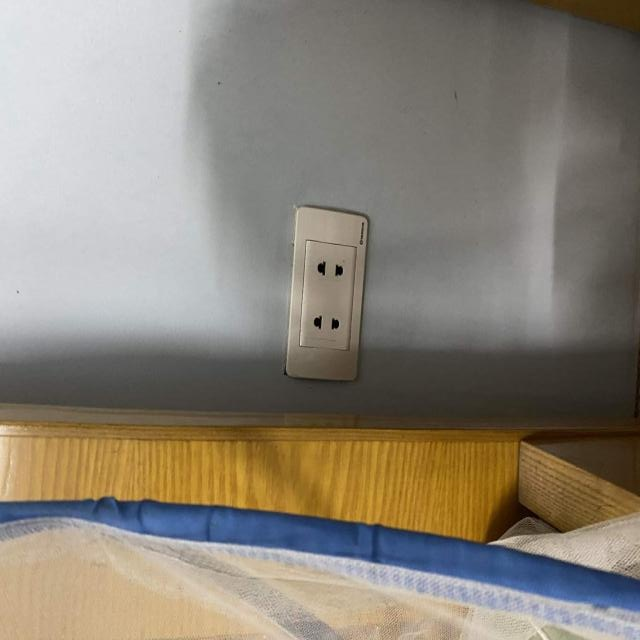outlet: (285, 206, 369, 382)
